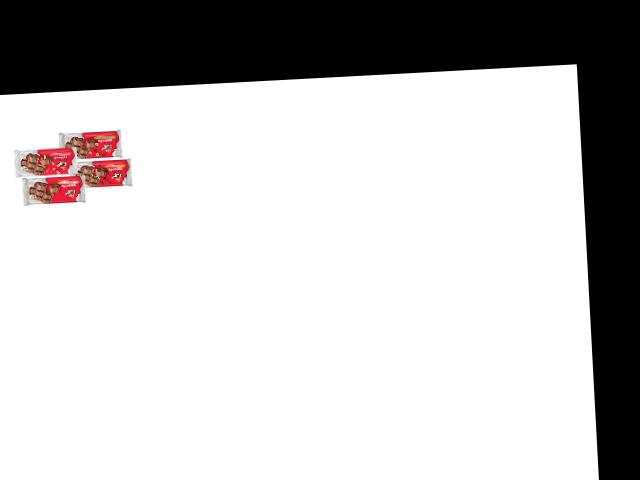chocolate: (54, 126, 127, 166)
